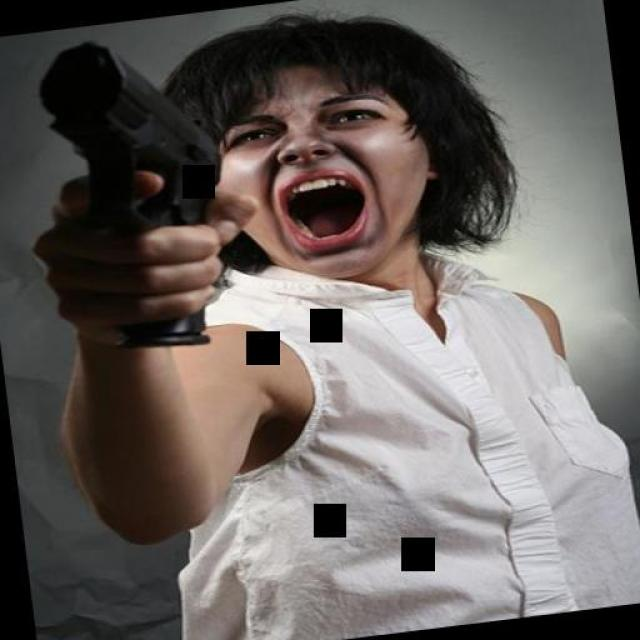gun: (26, 29, 244, 361)
